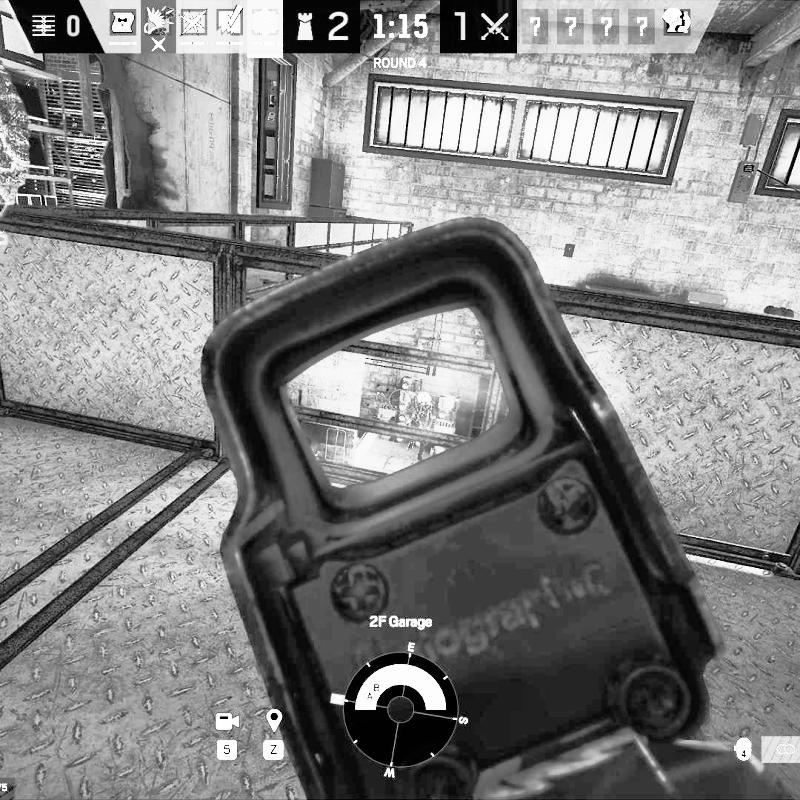Character: (403, 391, 438, 463)
Head: (418, 392, 430, 406)
